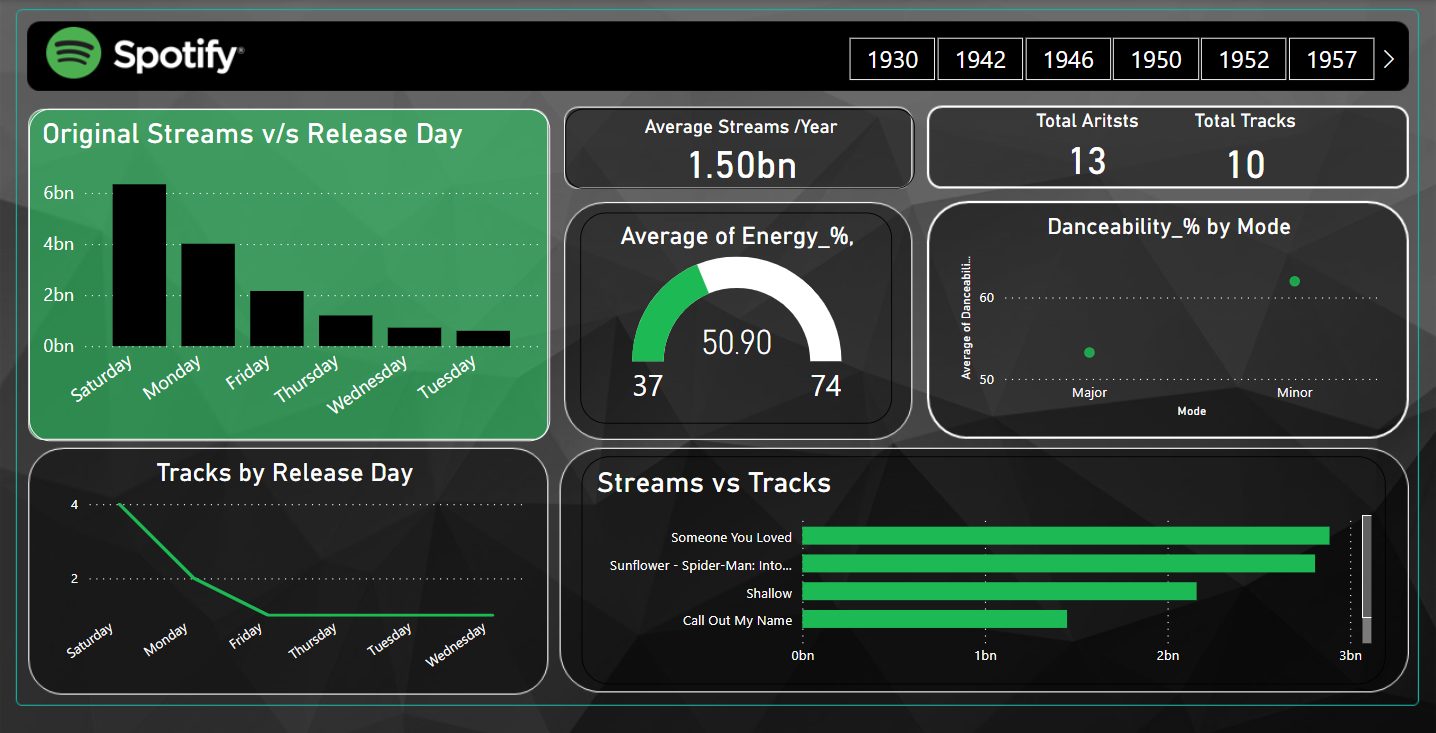

The dashboard page shown, as its layout file describes it:
{"tool":"powerbi","page":{"name":"Page 1","canvas":[1280,720],"ordinal":0},"visuals":[{"type":"barChart","title":"Streams vs Tracks","fields":{"Y":["Sum(spotify-2023. Original_Streams)"],"Category":["spotify-2023.Track_Name"]},"box":[518.3,405.8,715.7,202.9],"z":0},{"type":"columnChart","title":" Original Streams v/s Release Day","fields":{"Category":["spotify-2023.Release_Day"],"Y":["Sum(spotify-2023. Original_Streams)"]},"box":[26.2,96.4,464.1,296.3],"z":1000},{"type":"lineChart","title":"Tracks by Release Day","fields":{"Y":["Count(spotify-2023.Track_Name)"],"Category":["spotify-2023.Release_Day"]},"box":[38.4,405.8,433.3,202.9],"z":2000},{"type":"slicer","title":"M","fields":{"Values":["spotify-2023.Released_Year"]},"box":[724.8,20.2,530.8,55.9],"z":3000},{"type":"scatterChart","title":"Danceability_% by Mode","fields":{"Y":["Avg(spotify-2023.Danceability_%)"],"X":["spotify-2023.Mode"]},"box":[850.3,189.3,383.5,188.1],"z":4000},{"type":"card","title":"Average Streams /Year","fields":{"Values":["Avg(spotify-2023. Original_Streams)"]},"box":[504.1,96.5,307.5,71.2],"z":5000},{"type":"card","title":"Total Aritsts","fields":{"Values":["Sum(spotify-2023.Artist_Count)"]},"box":[703.1,96.5,568,66.3],"z":6000},{"type":"card","title":"Total Tracks","fields":{"Values":["Count(spotify-2023.Track_Name)"]},"box":[937.8,96.4,342.7,71.4],"z":7000},{"type":"gauge","title":"Average of Energy_%,","fields":{"Y":["Avg(spotify-2023.Energy_%)"],"MinValue":["Min(spotify-2023.Energy_%)"],"MaxValue":["Max(spotify-2023.Energy_%)"]},"box":[517.4,189.3,283.4,188.1],"z":8000}]}

Visuals, with their boxes on the page's 1280x720 design canvas (x1, y1, x2, y2). These are canvas units, not pixel positions in the 1436x733 screenshot, which may show the page scaled, cropped or inside an application window:
"Streams vs Tracks" barChart: box=[518, 406, 1234, 609]
" Original Streams v/s Release Day" columnChart: box=[26, 96, 490, 393]
"Tracks by Release Day" lineChart: box=[38, 406, 472, 609]
"M" slicer: box=[725, 20, 1256, 76]
"Danceability_% by Mode" scatterChart: box=[850, 189, 1234, 377]
"Average Streams /Year" card: box=[504, 96, 812, 168]
"Total Aritsts" card: box=[703, 96, 1271, 163]
"Total Tracks" card: box=[938, 96, 1280, 168]
"Average of Energy_%," gauge: box=[517, 189, 801, 377]
